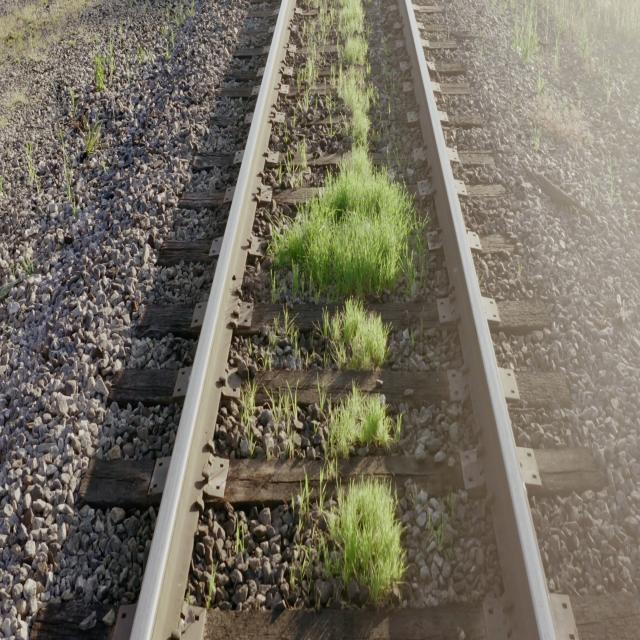Plant: (270, 0, 426, 371), (271, 0, 426, 369), (318, 471, 404, 604), (319, 387, 400, 473), (271, 391, 298, 444), (300, 482, 310, 531), (298, 144, 306, 176), (248, 391, 255, 413), (246, 416, 250, 433)
